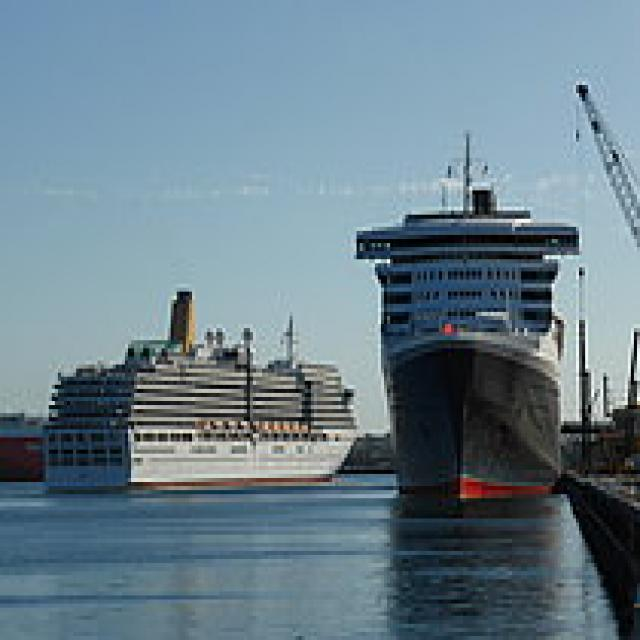Ship: (13, 281, 373, 536), (346, 151, 587, 508), (562, 62, 640, 629)
